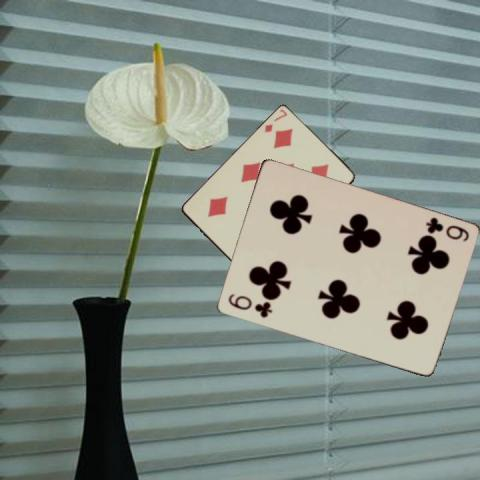6c: (423, 214, 470, 244), (225, 290, 273, 319)
7d: (261, 107, 289, 134)
